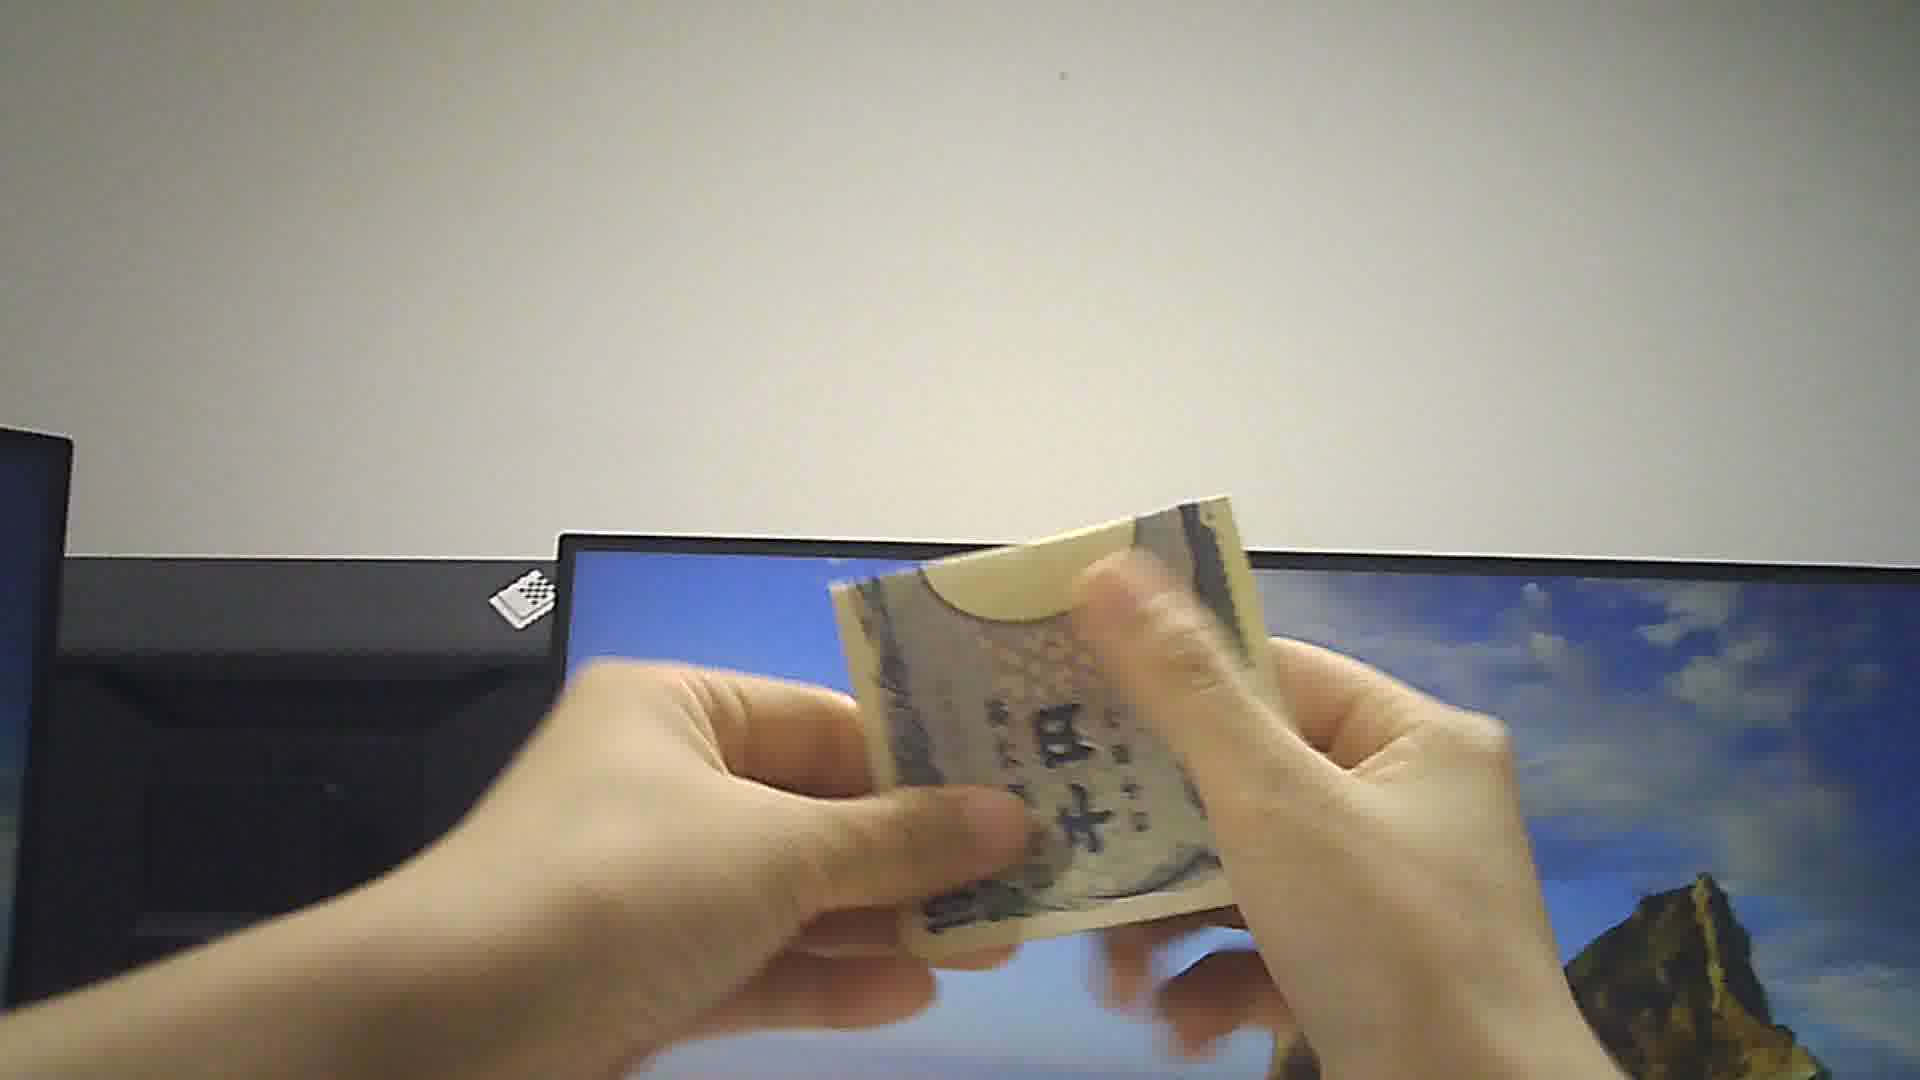1,000 Yen: (829, 502, 1287, 960)
